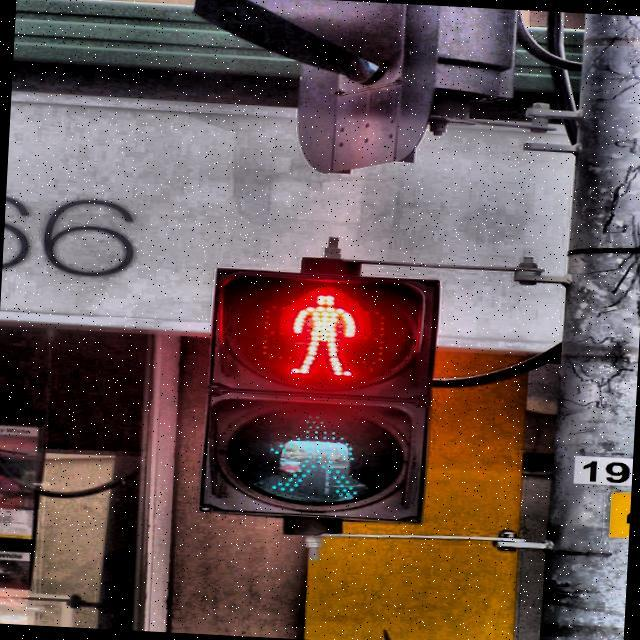red_light: (286, 290, 358, 380)
